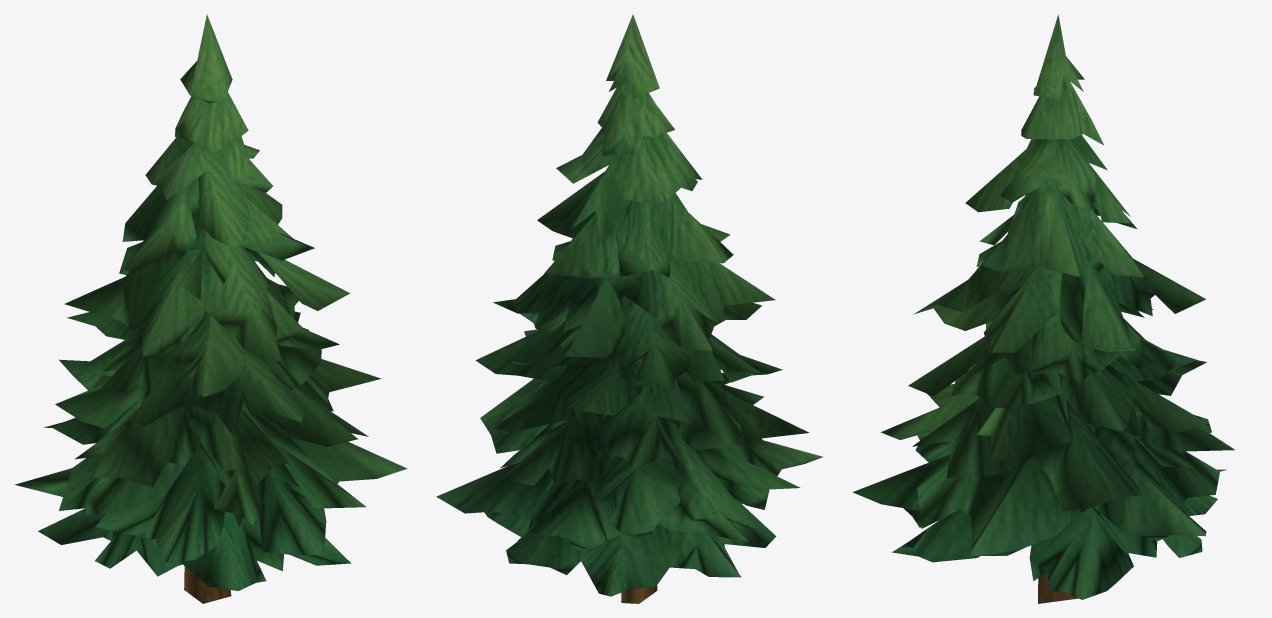
Rendered from tree_fir_far.glb.
3 views of the same model, side by side, from view 1: azimuth 30°, elevation 25°; view 2: azimuth 150°, elevation 25°; view 3: azimuth 270°, elevation 25° (orthographic).
Parts seen in each view (by area): view 1: plant; view 2: plant; view 3: plant.
Part boxes in pixels (x1=…): plant: x1=15, y1=14, x2=407, y2=603; plant: x1=436, y1=14, x2=822, y2=603; plant: x1=853, y1=14, x2=1234, y2=603.
Bounding box in the file's own units: 3.37 × 6 × 3.78.
1 material, 1 textured.
